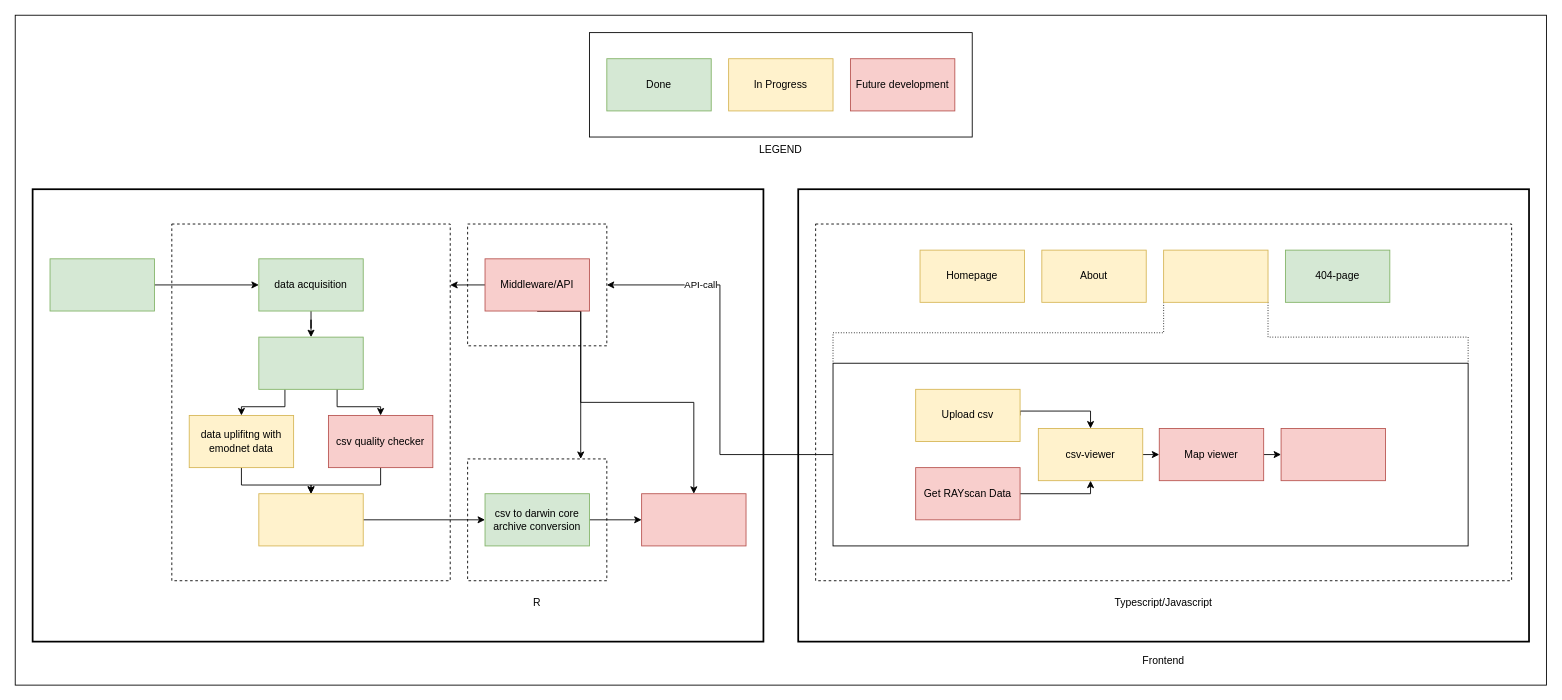
The diagram is 1562 pixels wide and 700 high, and some of its shapes have lost their labels. Each missing label, with the box of its shape:
Backend: (31, 188, 764, 642)
Combine csv data: (258, 493, 363, 546)
csv to darwin core: (1280, 428, 1385, 481)
EMODnet Biology: (641, 493, 746, 546)
json to csv conversion: (258, 336, 363, 389)
Rayscan REST API: (49, 258, 154, 311)
Typescript/Javascript/Python: (171, 223, 450, 581)
typescript/Python: (467, 223, 607, 346)
Upload: (1163, 249, 1268, 302)
